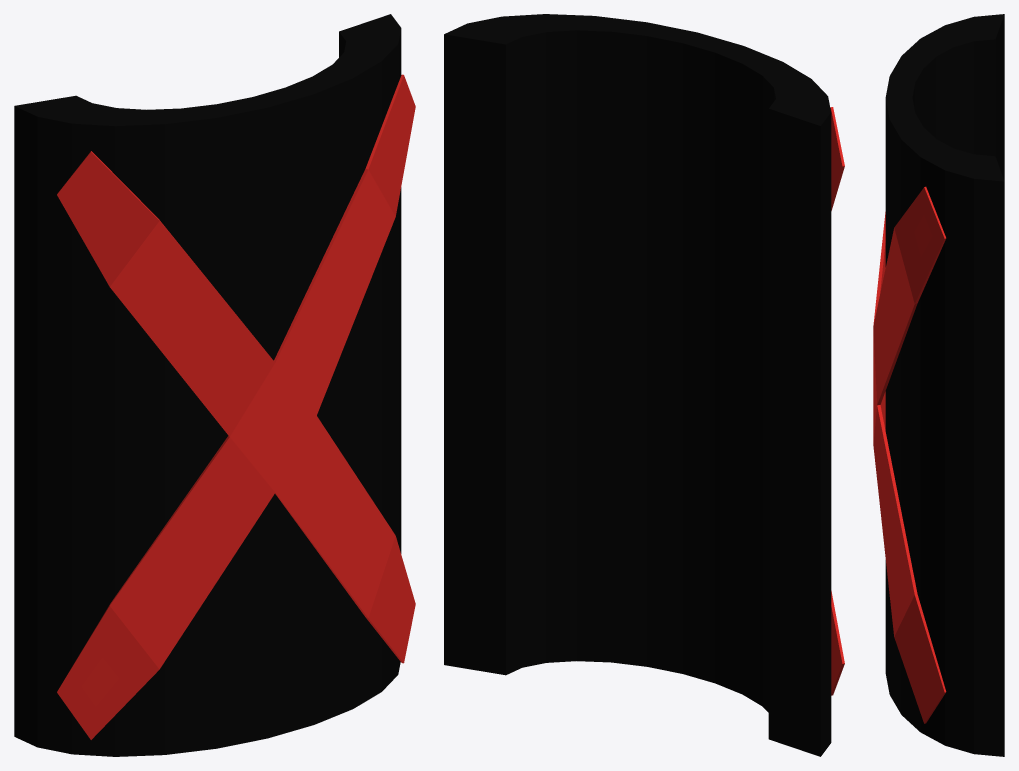
Rendered from juggernaut.fbx.
The picture shows the model from 3 angles, left to right: view 1: azimuth 30°, elevation 25°; view 2: azimuth 150°, elevation 25°; view 3: azimuth 270°, elevation 25°; orthographic projection. The views are drawn at different scales.
Parts seen in each view (by area): view 1: Cylinder, Cube; view 2: Cylinder, Cube; view 3: Cylinder, Cube.
Part boxes in pixels (box(x1,y1,x2,y2)): Cylinder: box(14, 14, 401, 756); Cube: box(57, 74, 415, 739); Cylinder: box(444, 14, 831, 756); Cube: box(830, 107, 844, 695); Cylinder: box(885, 14, 1004, 756); Cube: box(873, 186, 946, 723).
Size of the model in its own units: 200 by 320 by 66.18.
